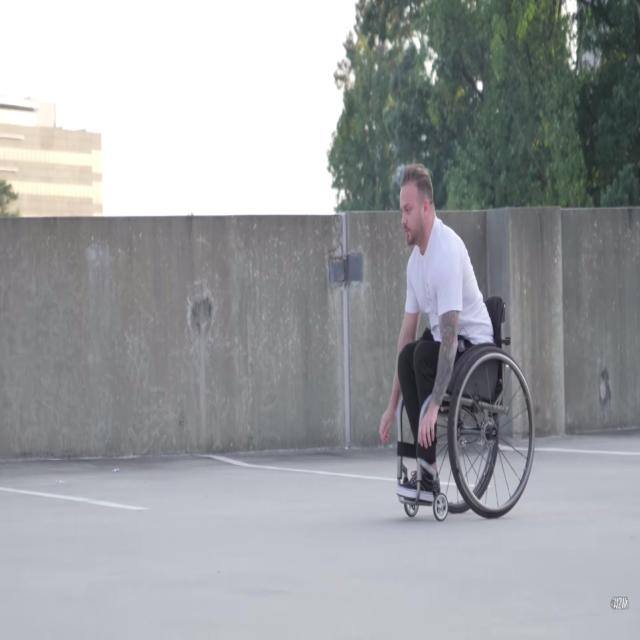wheelchairs: (373, 290, 542, 525)
